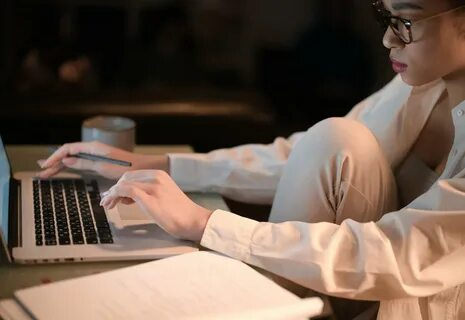awake: (235, 1, 464, 320)
